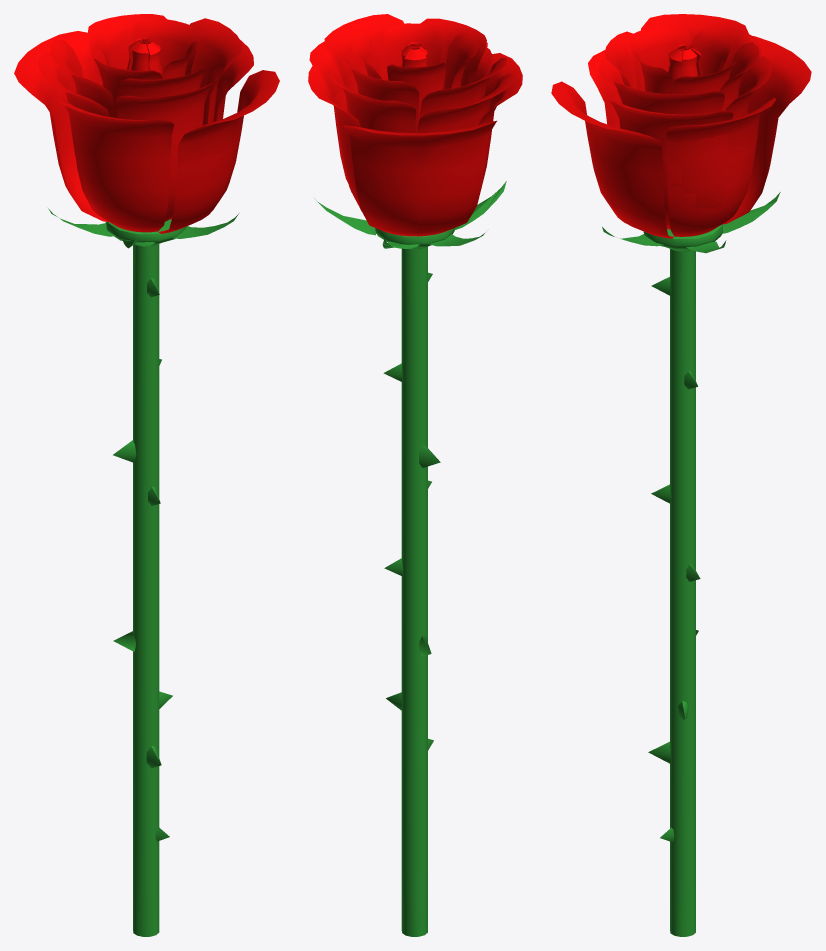
File: rosa.fbx
The picture shows the model from 3 angles, left to right: view 1: azimuth 30°, elevation 25°; view 2: azimuth 150°, elevation 25°; view 3: azimuth 270°, elevation 25°; orthographic projection.
Visible parts, largest first — view 1: object; view 2: object; view 3: object.
Boxes of the visible parts, x1,y1,x2,y2 form: object: [14, 14, 279, 936]; object: [308, 14, 522, 936]; object: [551, 14, 811, 936].
Size of the model in its own units: 16.11 by 67.49 by 18.
